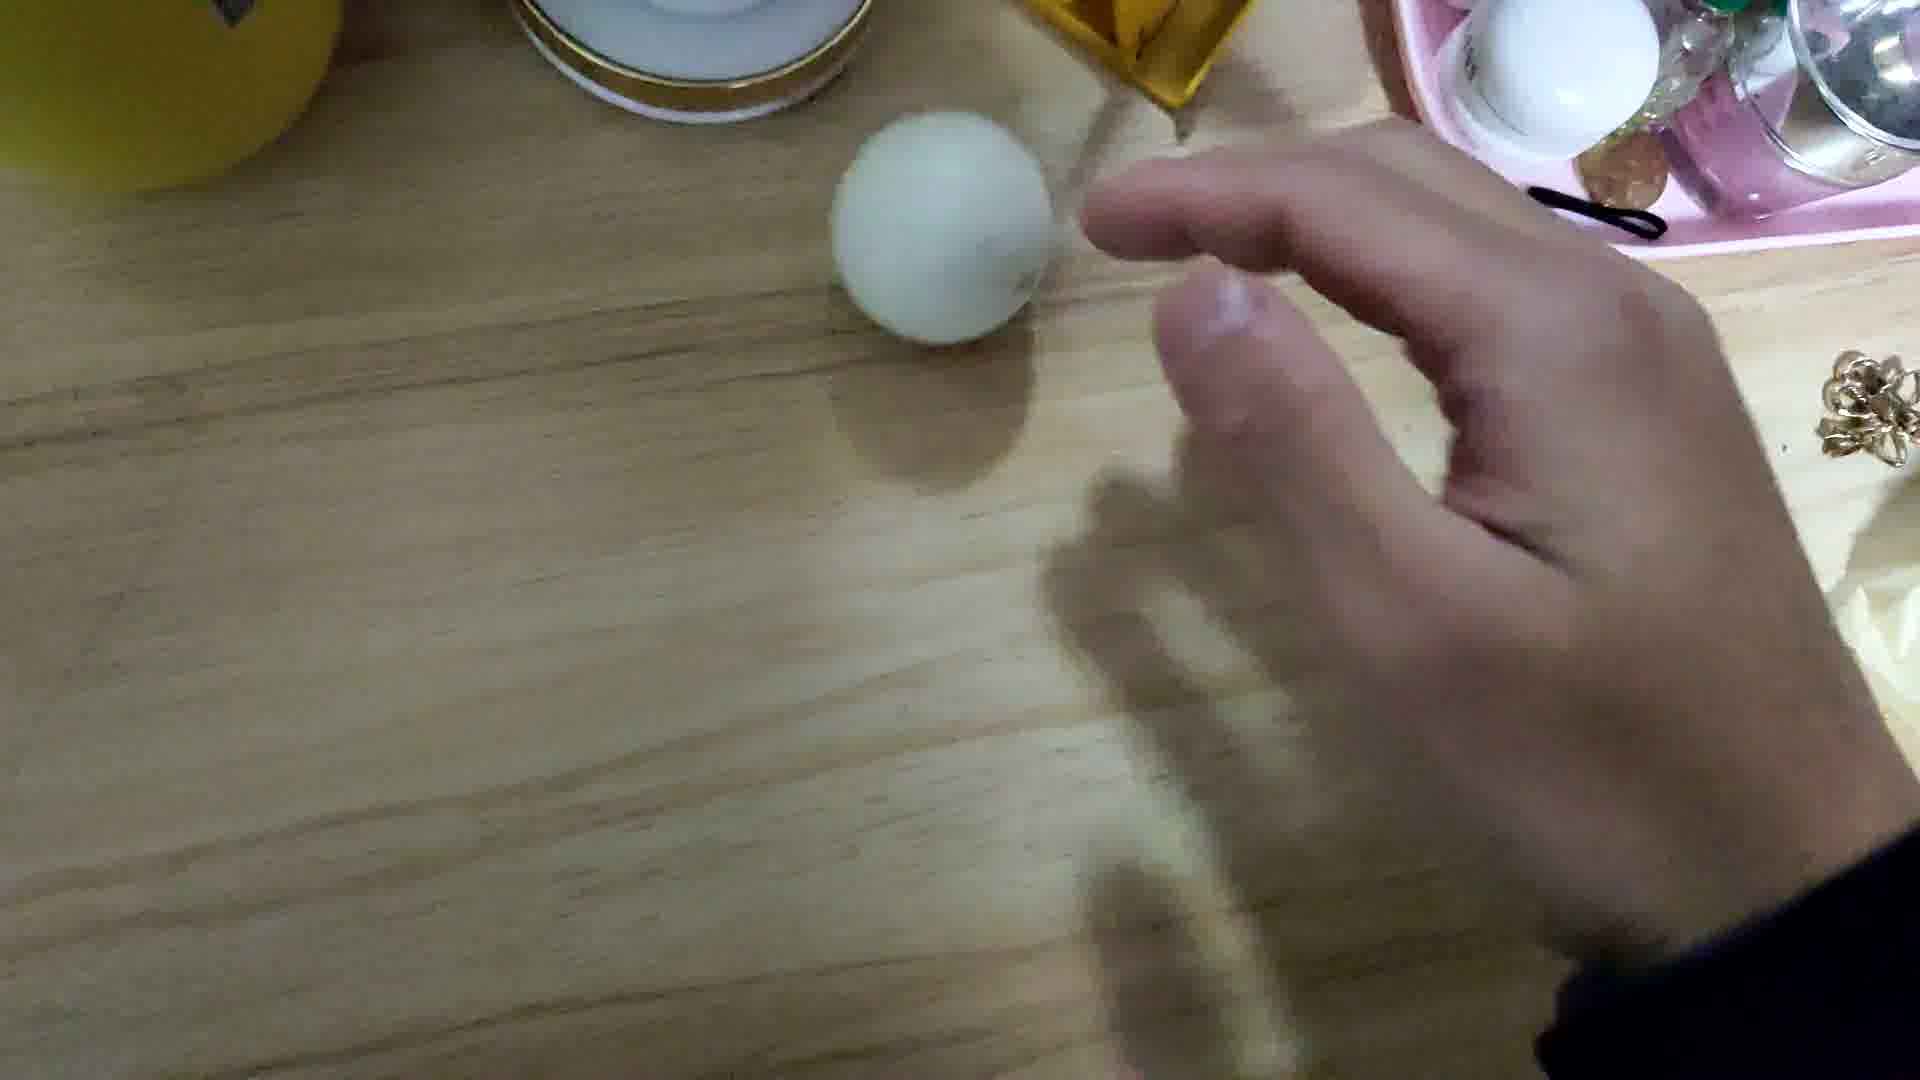Ball: (822, 105, 1059, 353)
